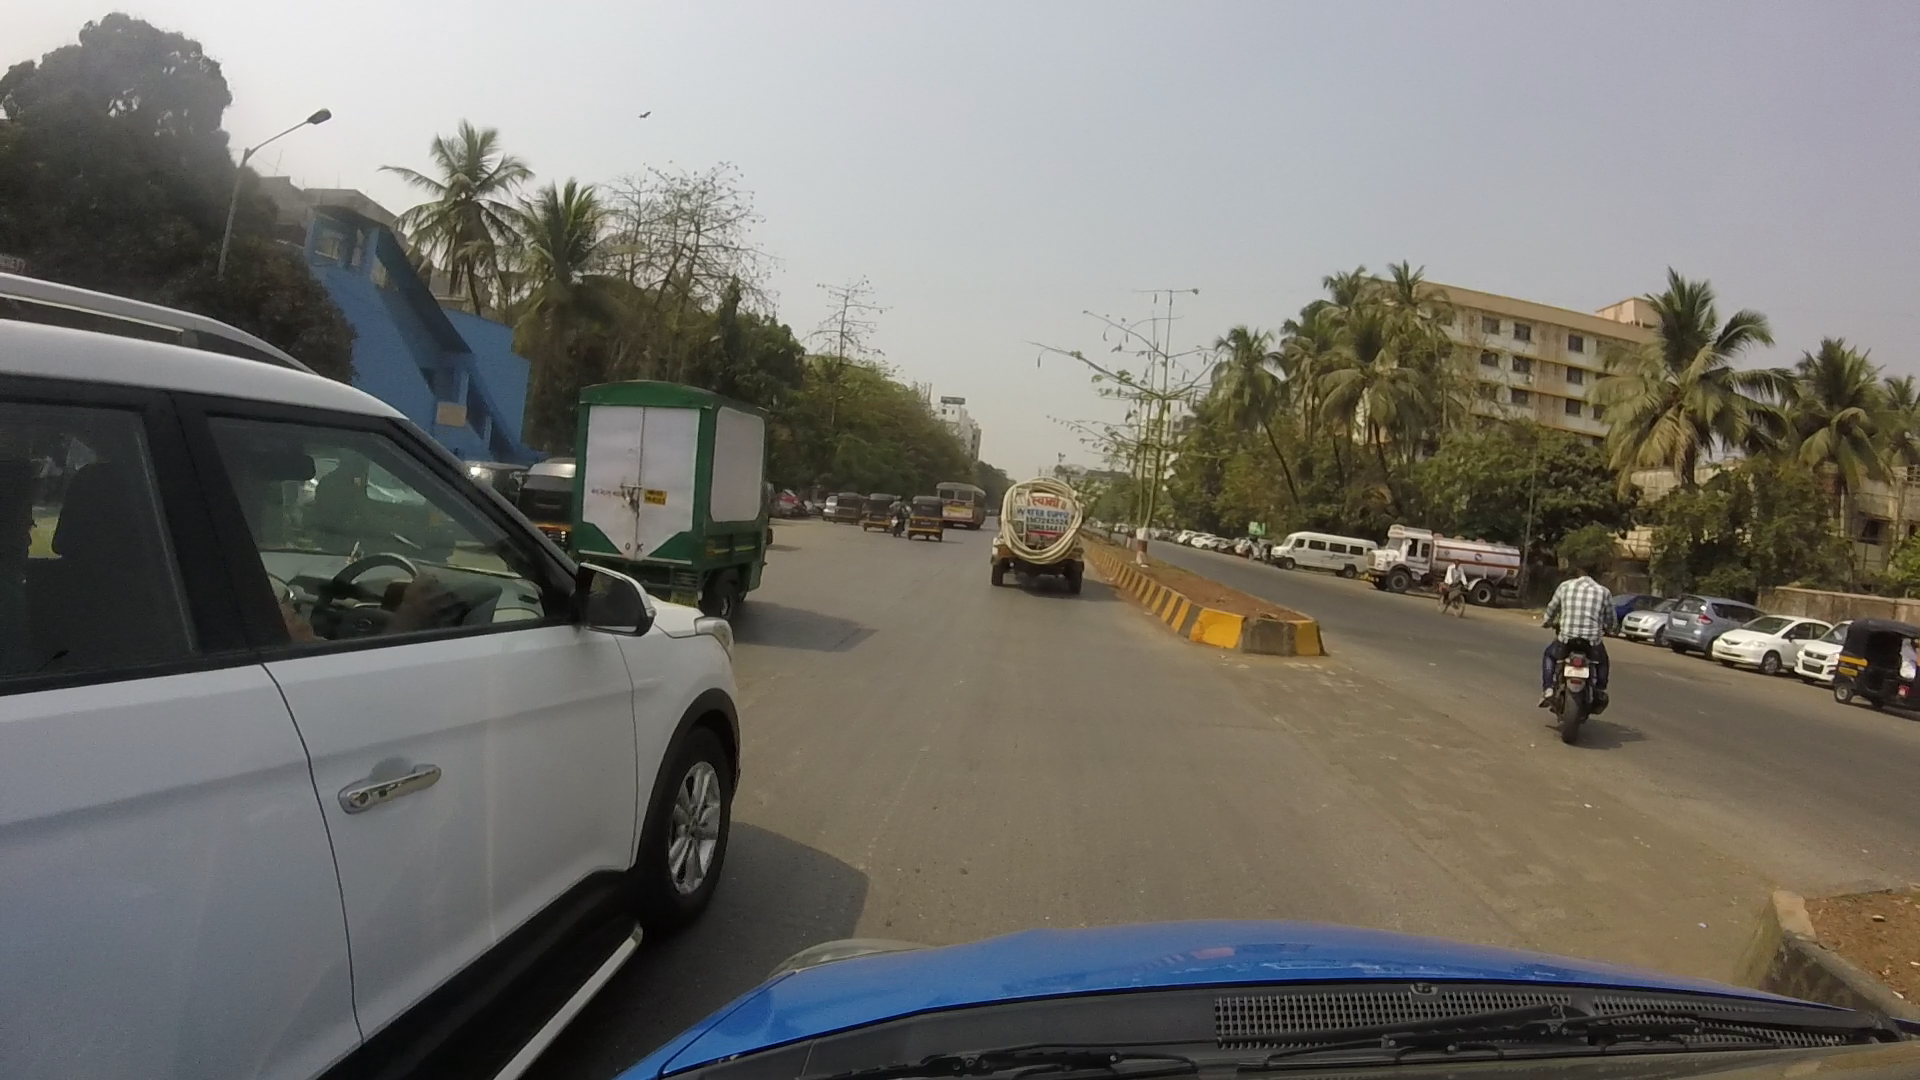bike/scooter: (1540, 556, 1605, 748)
car: (5, 277, 758, 1080)
rickshaw: (1832, 618, 1920, 709)
truck: (575, 367, 766, 616), (981, 472, 1087, 601)
